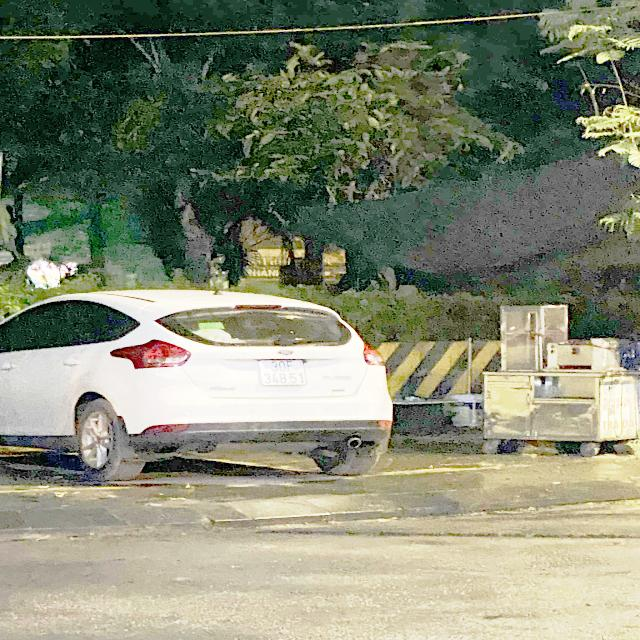license_plate: (257, 360, 310, 389)
